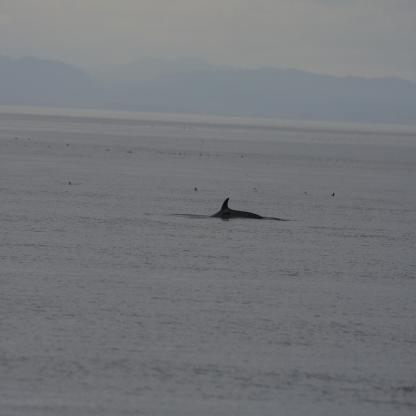dolphin-whale: (207, 194, 266, 222)
